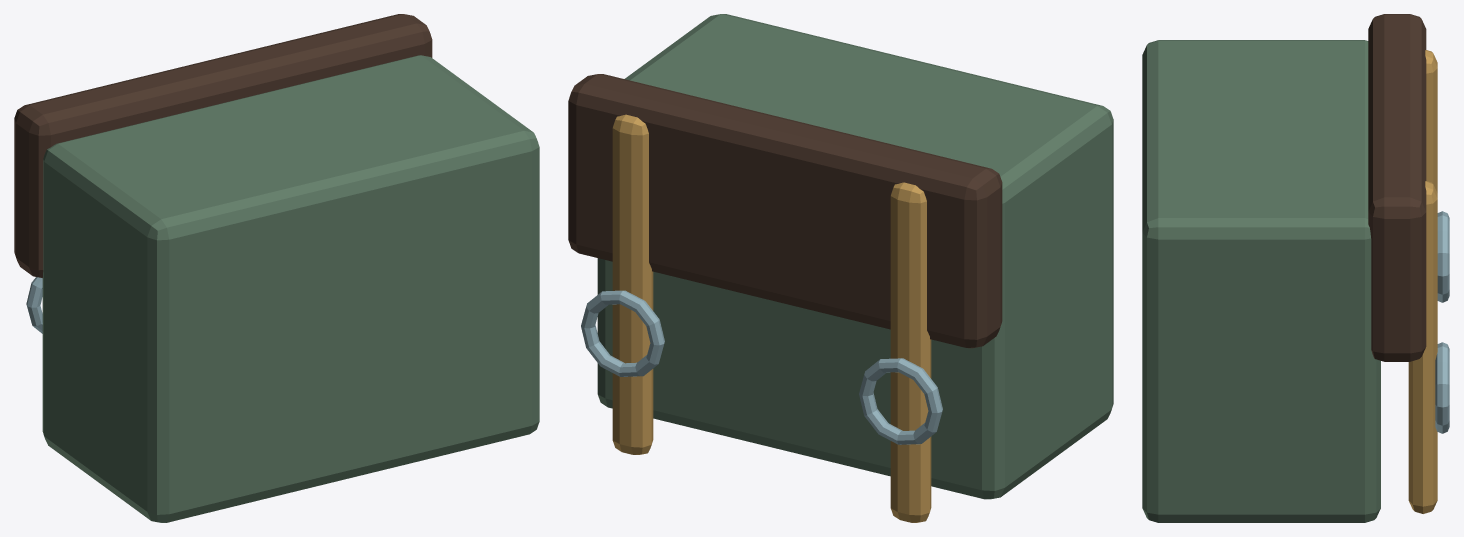
Rendered from backpack_trail.glb.
The picture shows the model from 3 angles, left to right: view 1: azimuth 30°, elevation 25°; view 2: azimuth 150°, elevation 25°; view 3: azimuth 270°, elevation 25°; orthographic projection. The views are drawn at different scales.
Parts seen in each view (by area): view 1: CanvasPack, LeatherFlap, Buckle; view 2: CanvasPack, LeatherFlap, PackStrap, Buckle; view 3: CanvasPack, LeatherFlap, PackStrap, Buckle.
Boxes of the visible parts, bbox=[...] form: CanvasPack: bbox=[42, 55, 539, 522]; LeatherFlap: bbox=[14, 14, 432, 277]; Buckle: bbox=[26, 277, 42, 333]; CanvasPack: bbox=[597, 14, 1113, 499]; LeatherFlap: bbox=[568, 74, 1002, 348]; PackStrap: bbox=[612, 114, 931, 522]; Buckle: bbox=[581, 290, 942, 444]; CanvasPack: bbox=[1142, 40, 1380, 522]; LeatherFlap: bbox=[1368, 14, 1426, 361]; PackStrap: bbox=[1408, 50, 1437, 513]; Buckle: bbox=[1435, 211, 1449, 433].
Bounding box in the file's own units: 0.72 × 0.58 × 0.4763.
